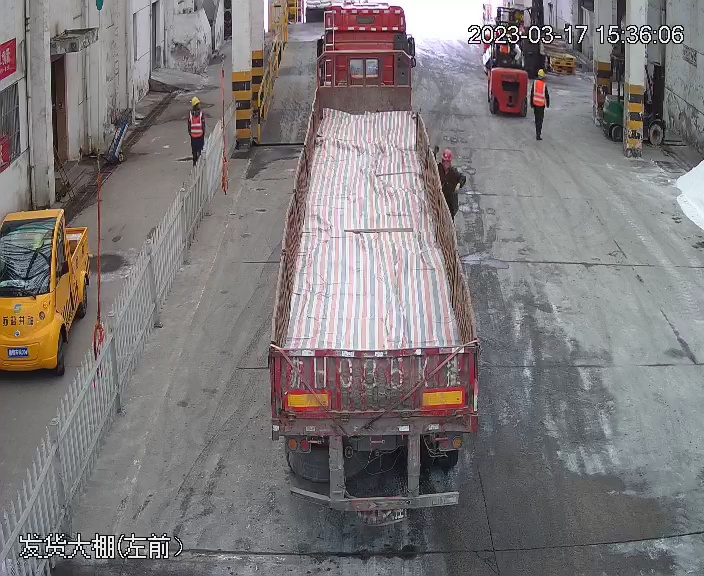head: (183, 95, 209, 165), (437, 148, 460, 175), (187, 96, 206, 121), (533, 69, 549, 90)
helmet: (188, 96, 206, 121), (440, 148, 454, 159), (190, 96, 202, 107), (537, 69, 547, 79)
people: (437, 146, 467, 225), (182, 96, 212, 166), (530, 67, 551, 144)
truck: (256, 1, 489, 534)
